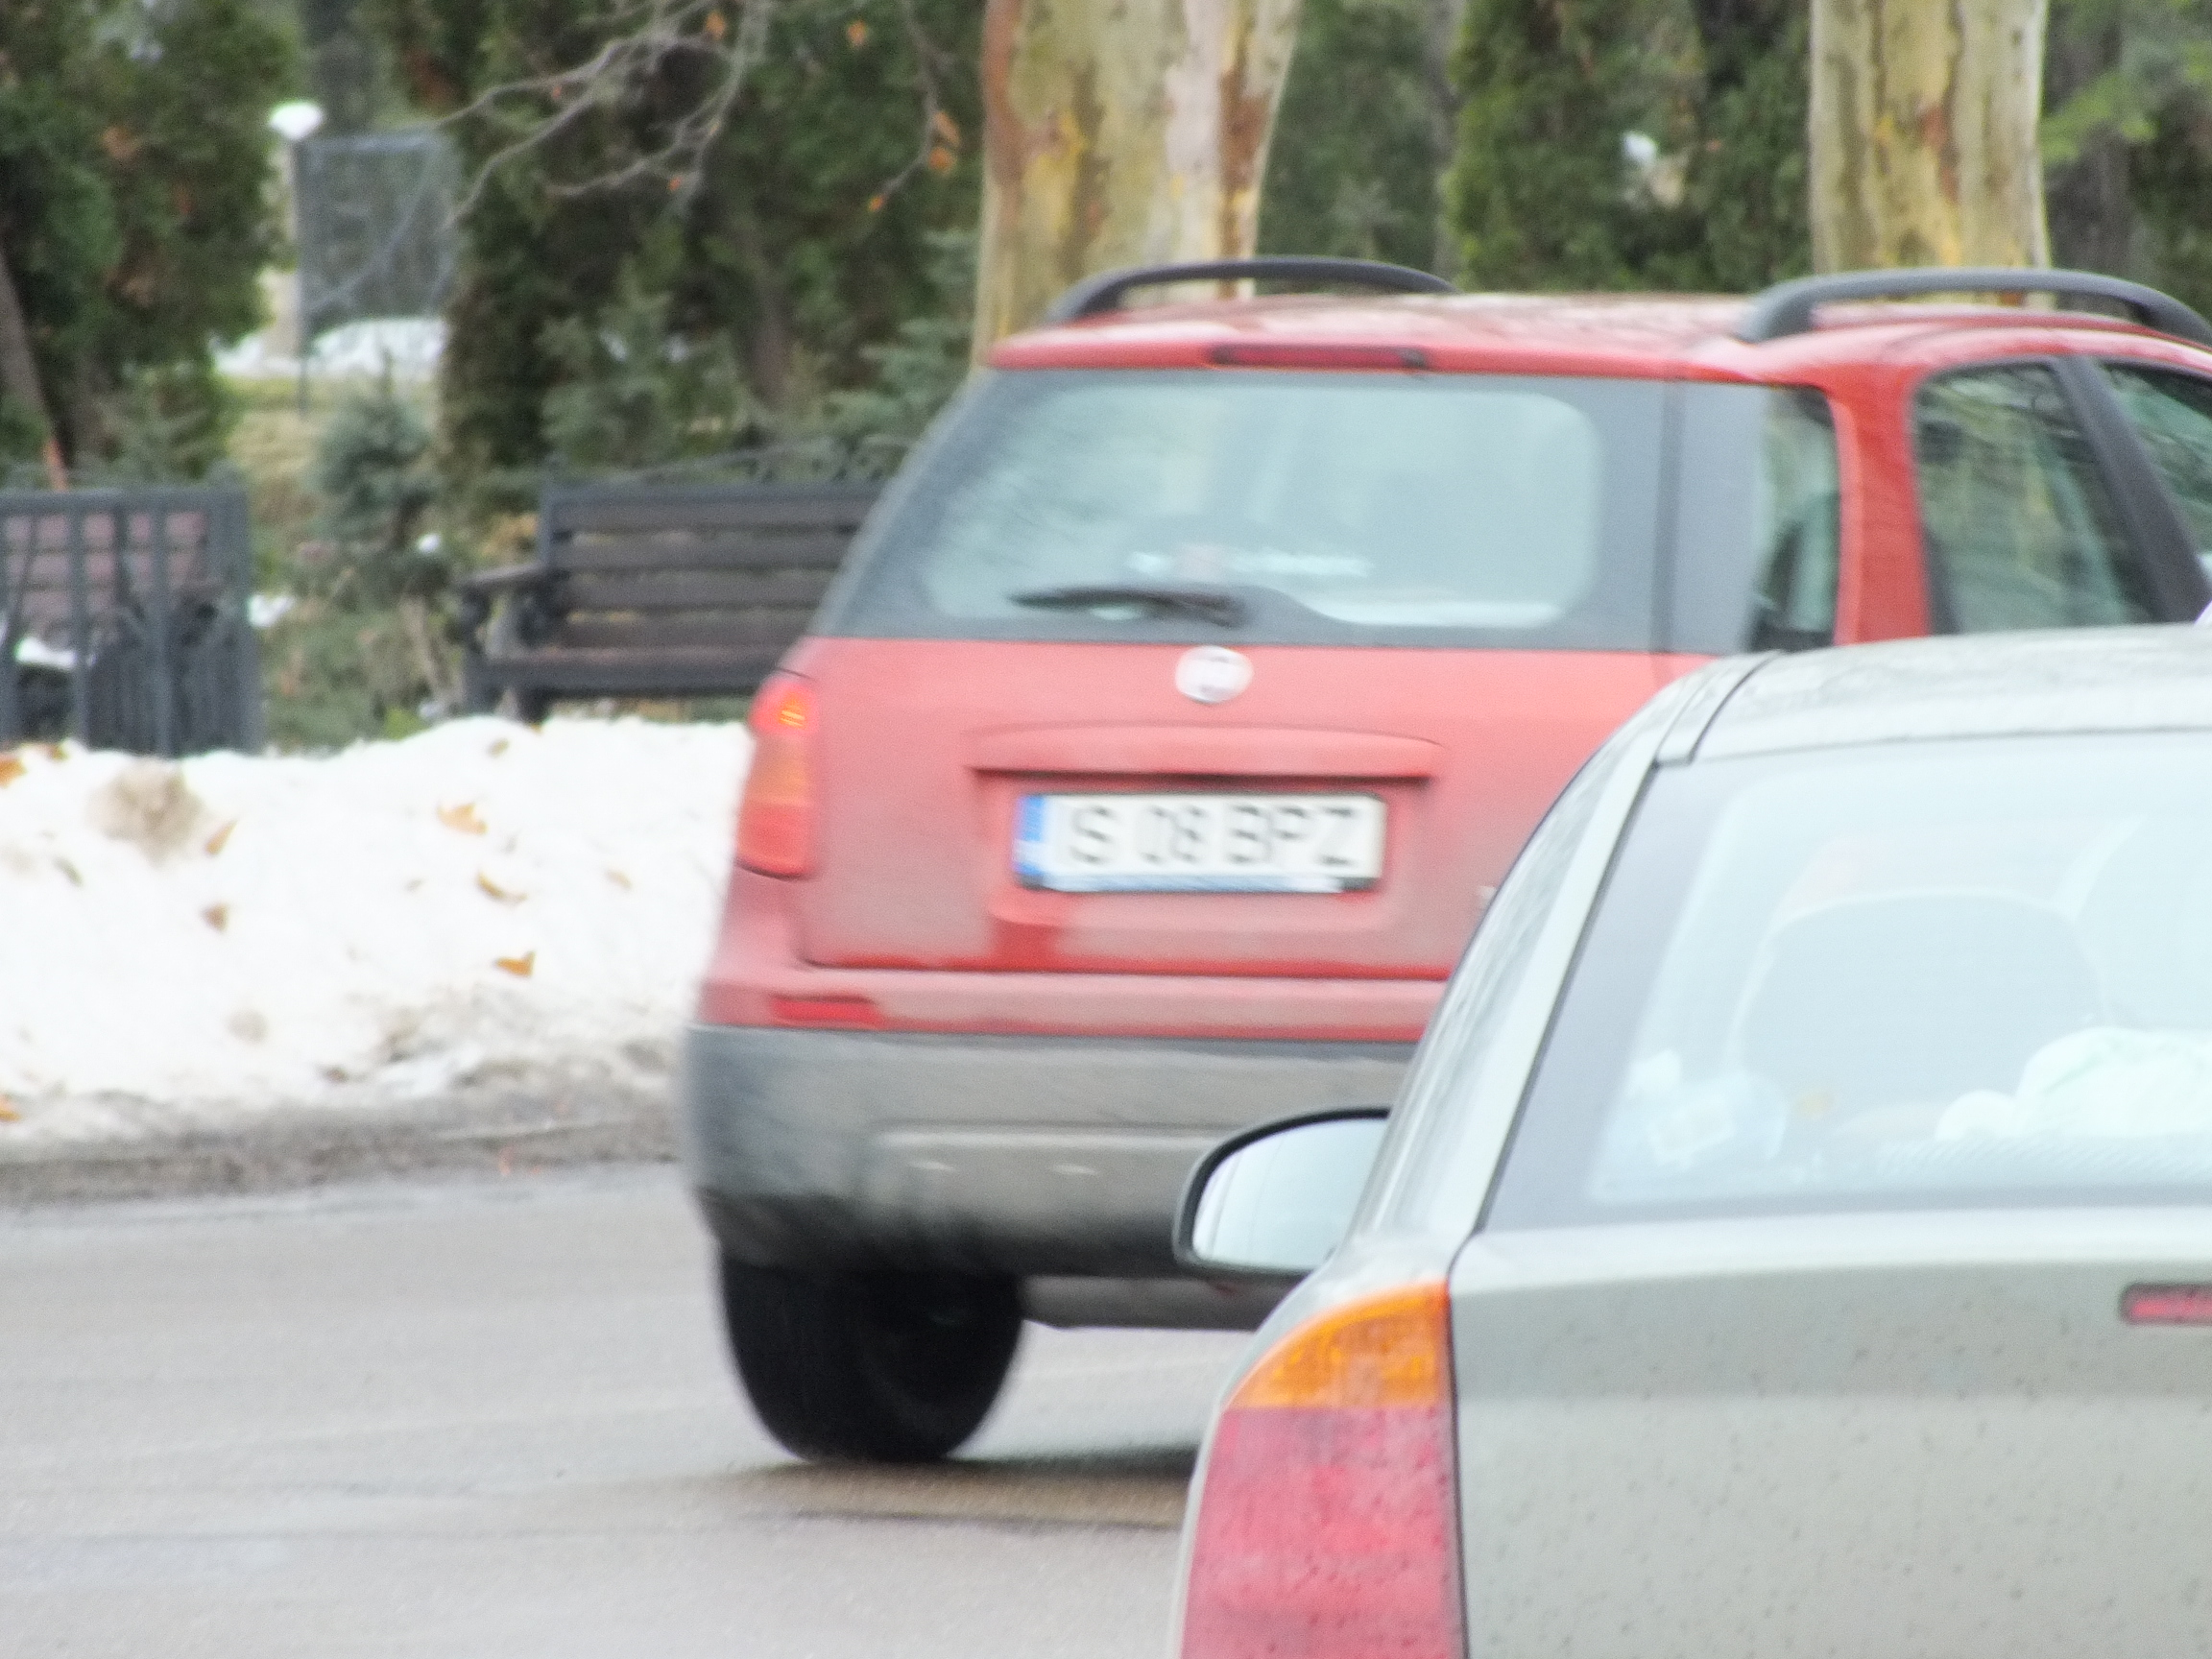IS08BPZ: (1015, 800, 1364, 878)
